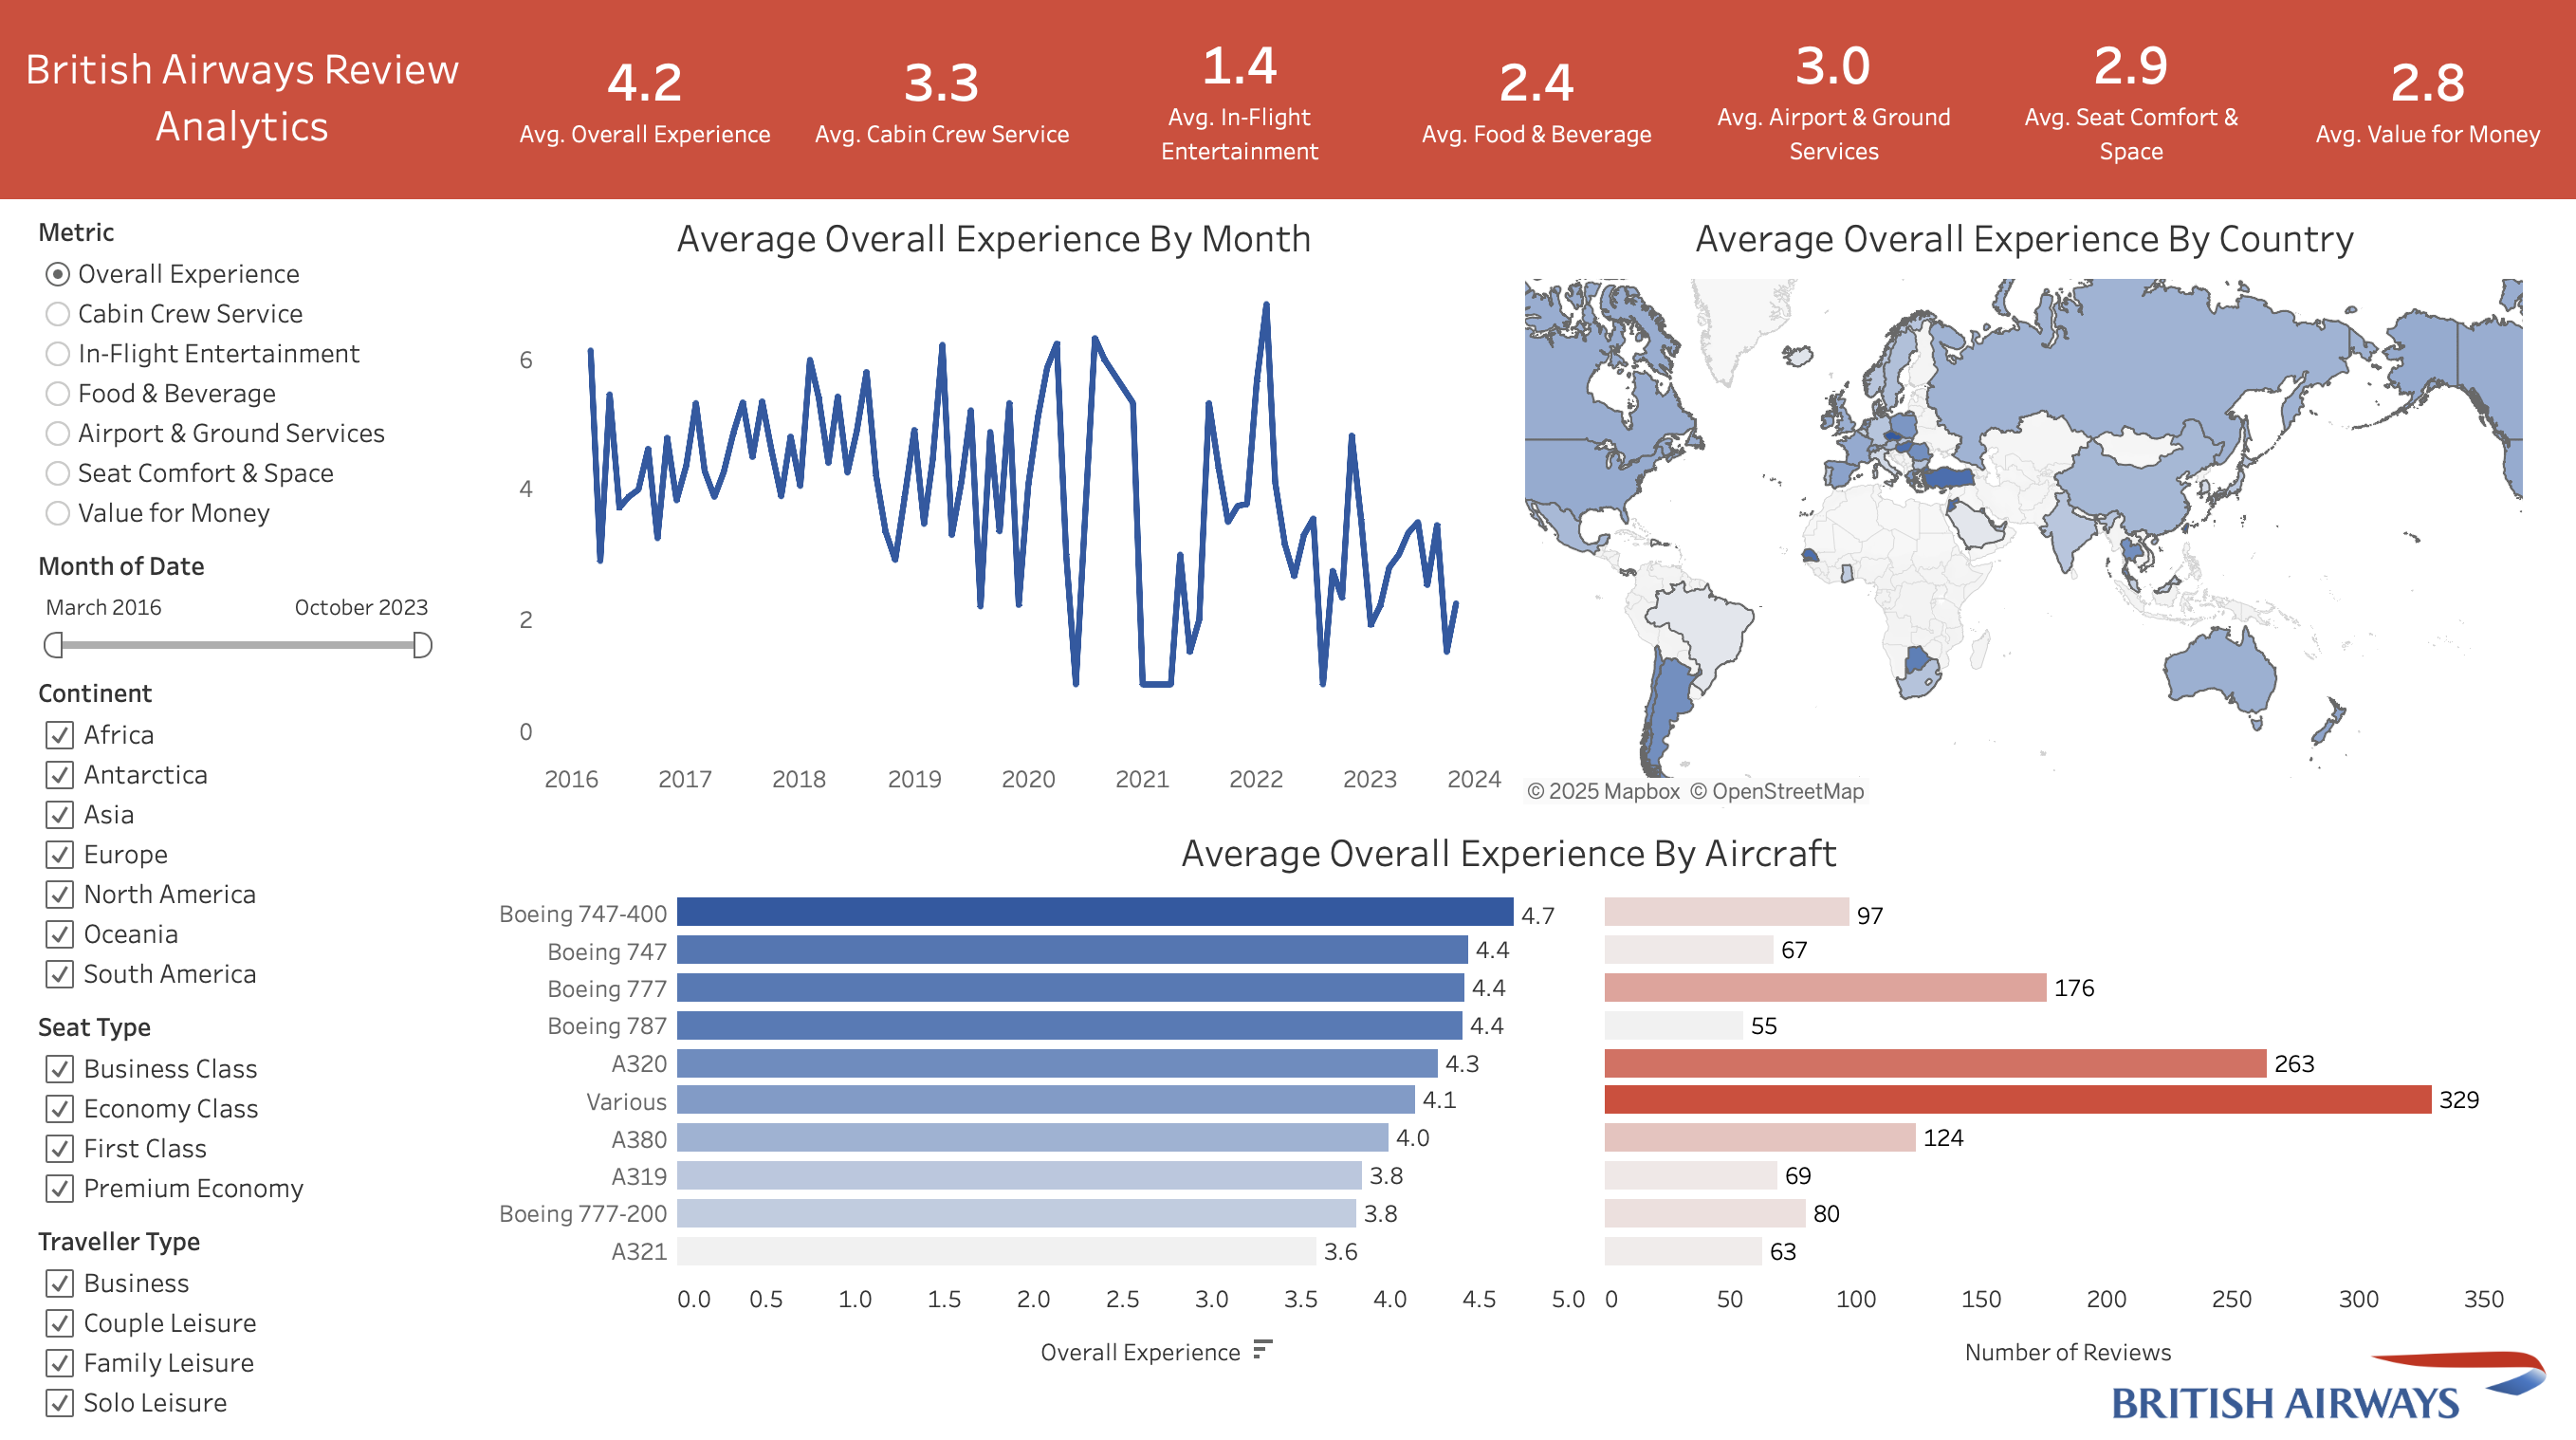

The page's visual inventory and layout, read from the dashboard file:
{"tool":"tableau","page":{"name":"British Airways Review Analytics","canvas":[1366,768],"ordinal":0},"visuals":[{"type":"text","box":[0,0,268.1,108]},{"type":"worksheet","title":"Summary","mark":"Automatic","box":[268.1,0,1096.5,108]},{"type":"worksheet","title":"Average Overall Experience By Month","mark":"Automatic","rows":["Calculation_1541427382833750016"],"cols":["date"],"box":[263,108,535,321]},{"type":"worksheet","title":"Average Overall Experience By Country","mark":"Automatic","box":[807,108,533,321]},{"type":"parameter","param":"[Parameters].[Parameter 1]","box":[22,112,218,176]},{"type":"filter","title":"Average Overall Experience By Country","param":"[federated.0o2mchc0idyivc10dudit0sup3vz].[tmn:date:qk]","box":[22,288,218,67]},{"type":"filter","title":"Average Overall Experience By Country","param":"[federated.0o2mchc0idyivc10dudit0sup3vz].[none:Continent:nk]","box":[22,355,218,176]},{"type":"worksheet","title":"Average Overall Experience By Aircraft","mark":"Automatic","cols":["Calculation_1541427382833750016","british_airways_reviews.csv_2114C446FCBA479E82A99D1235694FBE"],"box":[263,432,1078,297]},{"type":"filter","title":"Average Overall Experience By Country","param":"[federated.0o2mchc0idyivc10dudit0sup3vz].[none:seat_type:nk]","box":[22,531,218,113]},{"type":"filter","title":"Average Overall Experience By Country","param":"[federated.0o2mchc0idyivc10dudit0sup3vz].[none:traveller_type:nk]","box":[22,644,218,113]},{"type":"image","param":"Image/british_airways_review_analytics.png","box":[1116,711,240,44]}]}

Visuals, with their boxes in screenshot pixels (x1, y1, x2, y2), scaled from the page's 1366x768 canvas onto the 2576x1440 screenshot:
text: rect(0, 0, 506, 202)
"Summary" worksheet: rect(506, 0, 2573, 202)
"Average Overall Experience By Month" worksheet: rect(496, 202, 1505, 804)
"Average Overall Experience By Country" worksheet: rect(1522, 202, 2527, 804)
parameter: rect(42, 210, 452, 540)
"Average Overall Experience By Country" filter: rect(42, 540, 452, 666)
"Average Overall Experience By Country" filter: rect(42, 666, 452, 996)
"Average Overall Experience By Aircraft" worksheet: rect(496, 810, 2529, 1367)
"Average Overall Experience By Country" filter: rect(42, 996, 452, 1208)
"Average Overall Experience By Country" filter: rect(42, 1208, 452, 1419)
image: rect(2105, 1333, 2557, 1415)
